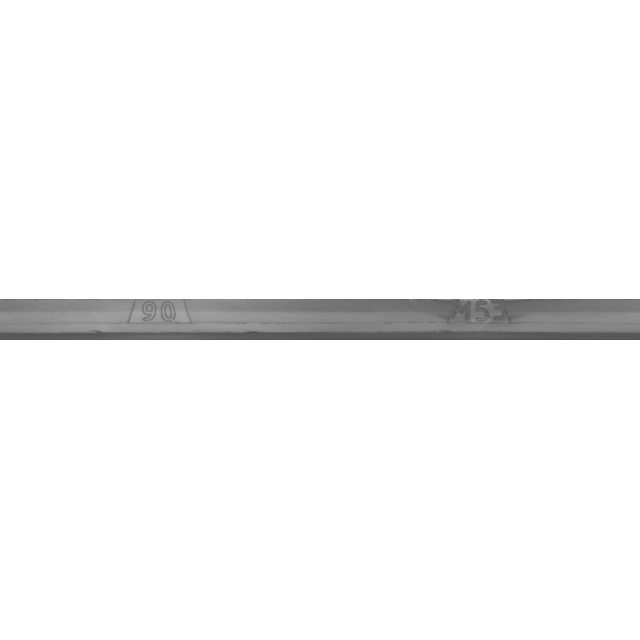mohao: (379, 270, 579, 370)
xuehao: (62, 270, 262, 370)
